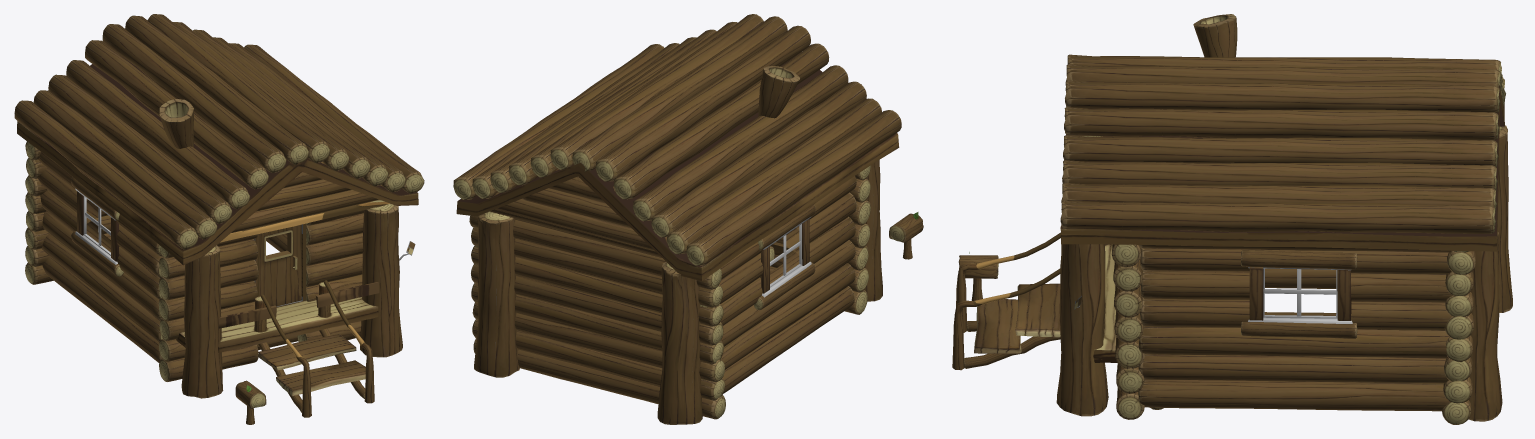
Rendered from cabin.fbx.
3 renders of one model, left to right at view 1: azimuth 30°, elevation 25°; view 2: azimuth 150°, elevation 25°; view 3: azimuth 270°, elevation 25°, orthographic. The views are drawn at different scales.
Parts seen in each view (by area): view 1: logs, columns, roof_base, polySurface87, cabin_exterior_door, polySurface85, polySurface84, chimney, polySurface86, polySurface103, polySurface81, polySurface79 (+3 smaller); view 2: logs, columns, roof_base, chimney, polySurface103; view 3: logs, columns, roof_base, polySurface84, polySurface85, chimney, polySurface87, polySurface81, polySurface79, polySurface103, polySurface77, polySurface90 (+1 smaller).
Boxes of the visible parts, <box> form: logs: <box>14,14,424,381</box>; columns: <box>181,203,402,398</box>; roof_base: <box>17,55,418,265</box>; polySurface87: <box>176,297,378,352</box>; cabin_exterior_door: <box>258,224,301,306</box>; polySurface85: <box>258,334,356,370</box>; polySurface84: <box>276,360,365,395</box>; chimney: <box>159,99,193,148</box>; polySurface86: <box>220,199,389,242</box>; polySurface103: <box>235,224,415,424</box>; polySurface81: <box>323,280,374,403</box>; polySurface79: <box>261,294,311,417</box>; logs: <box>453,14,901,419</box>; columns: <box>474,160,882,424</box>; roof_base: <box>456,53,899,281</box>; chimney: <box>758,66,799,118</box>; polySurface103: <box>889,212,923,259</box>; logs: <box>1060,54,1505,424</box>; columns: <box>1056,125,1512,421</box>; roof_base: <box>1060,85,1504,251</box>; polySurface84: <box>974,299,1021,353</box>; polySurface85: <box>1015,283,1060,337</box>; chimney: <box>1193,14,1237,57</box>; polySurface87: <box>1093,244,1117,362</box>; polySurface81: <box>952,268,1060,370</box>; polySurface79: <box>956,232,1060,332</box>; polySurface103: <box>958,252,1081,309</box>; polySurface77: <box>963,336,1060,368</box>; polySurface90: <box>1249,267,1263,320</box>.
Size of the model in its own units: 238 by 219 by 377.
